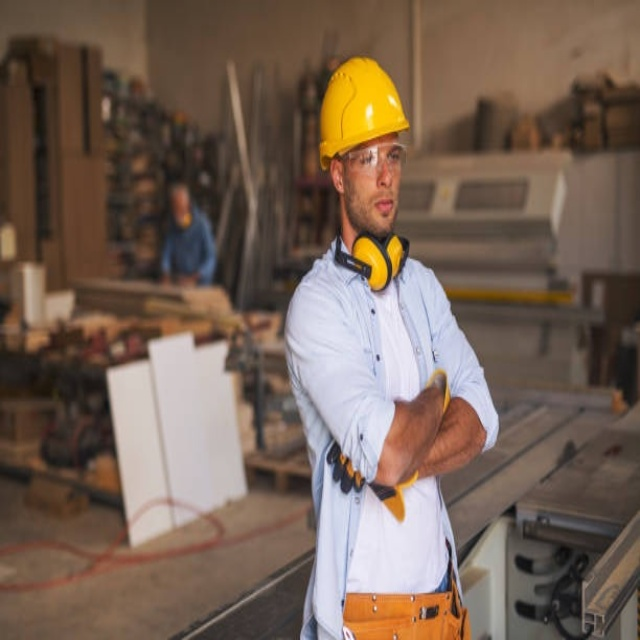Gafas: (341, 141, 406, 173)
Guantes: (322, 438, 367, 496)
Sin_mascara: (372, 196, 396, 226)
